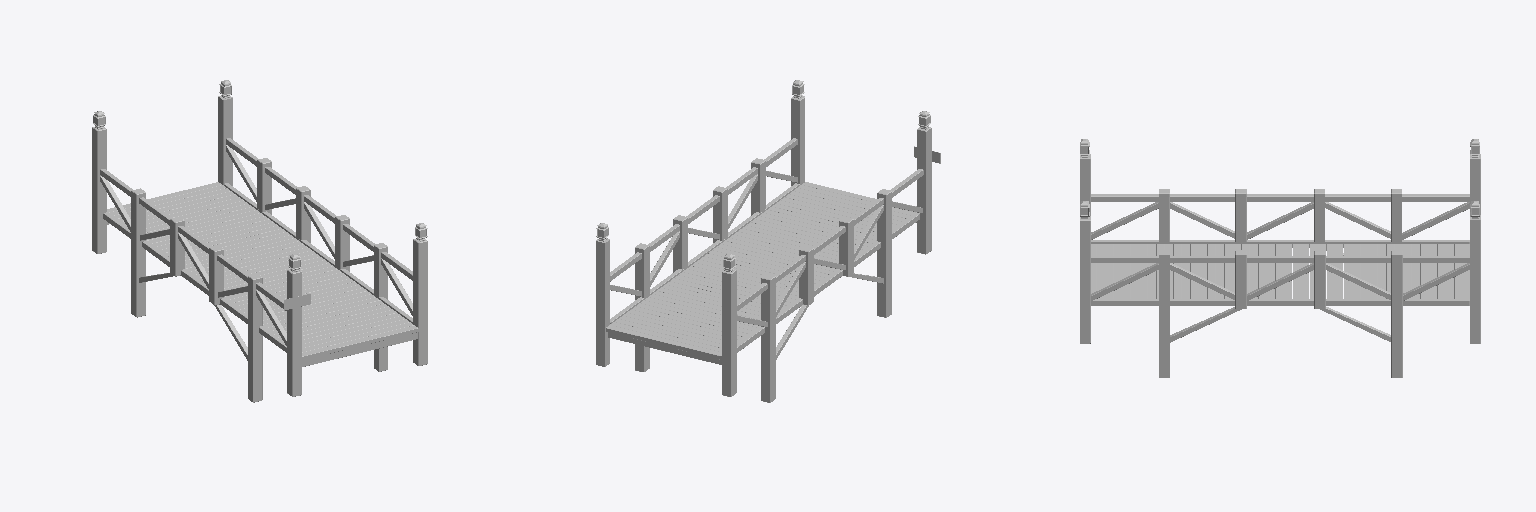
File: Bridge test.obj
3 renders of one model, left to right at view 1: azimuth 30°, elevation 25°; view 2: azimuth 150°, elevation 25°; view 3: azimuth 270°, elevation 25°, orthographic.
Parts seen in each view (by area): view 1: Bridge_test; view 2: Bridge_test; view 3: Bridge_test.
Boxes of the visible parts, <box> form: Bridge_test: <box>92,80,427,402</box>; Bridge_test: <box>596,80,940,402</box>; Bridge_test: <box>1080,139,1480,377</box>.
Bounding box in the file's own units: 428 × 494 × 1031.